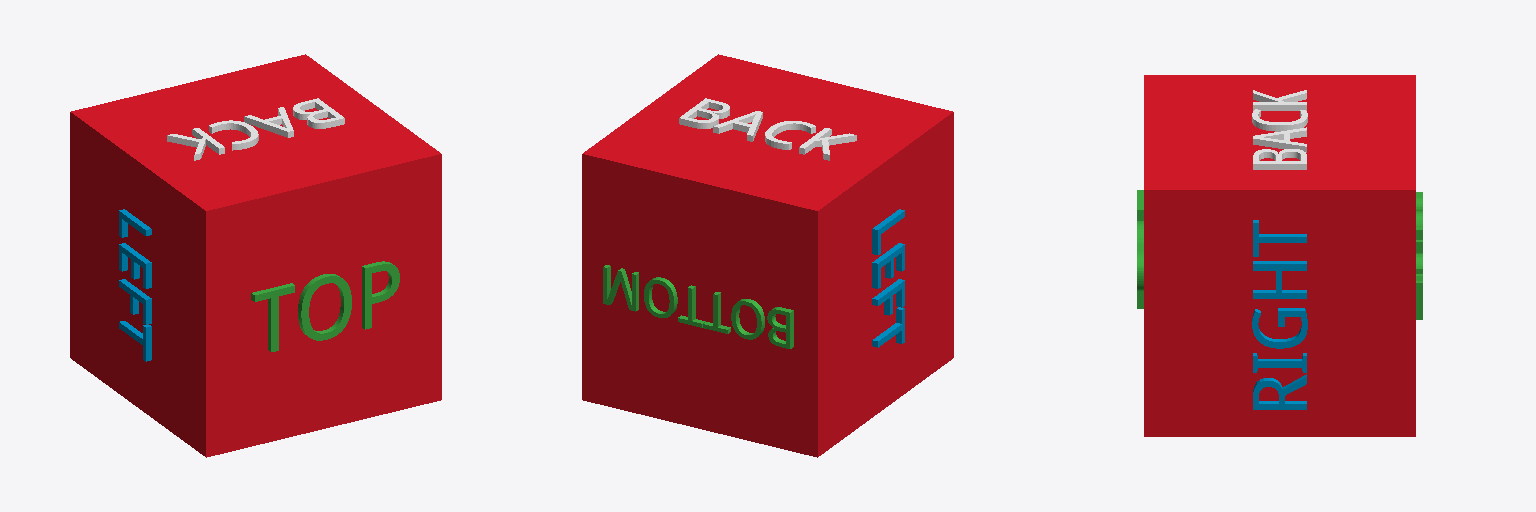
Rendered from tinker.obj.
3 renders of one model, left to right at view 1: azimuth 30°, elevation 25°; view 2: azimuth 150°, elevation 25°; view 3: azimuth 270°, elevation 25°, orthographic.
Parts seen in each view (by area): view 1: obj_0; view 2: obj_0; view 3: obj_0.
Part boxes in pixels (x1,y1,x2,y2): obj_0: (70, 54, 441, 457); obj_0: (582, 54, 953, 457); obj_0: (1137, 75, 1422, 436).
Size of the model in its own units: 21 by 21 by 21.